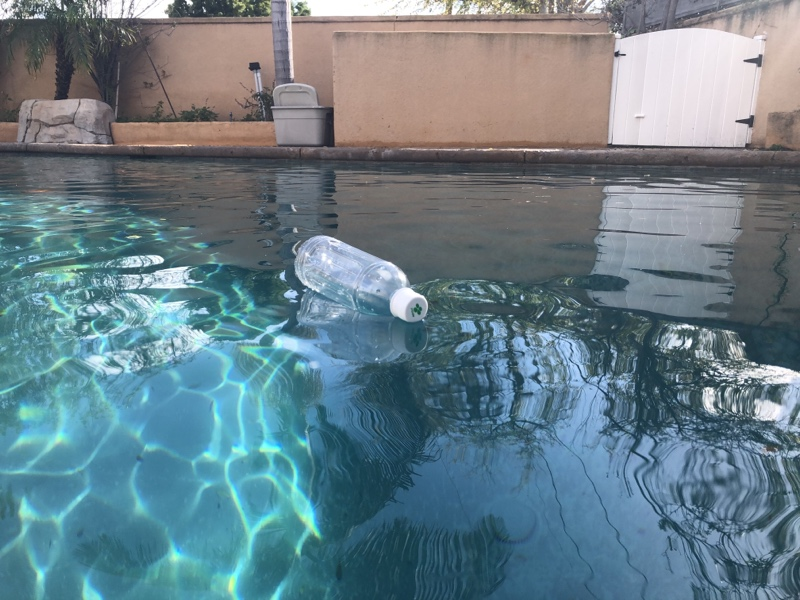Plastic Bottle: (292, 233, 433, 329)
